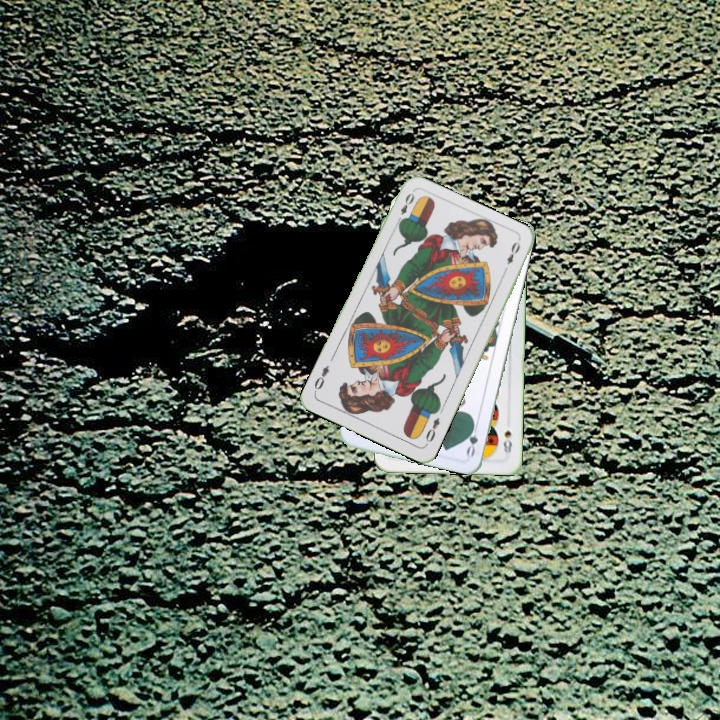EO: (393, 189, 417, 227), (421, 413, 443, 448)
GO: (462, 418, 481, 459)
S8: (499, 426, 514, 456)
